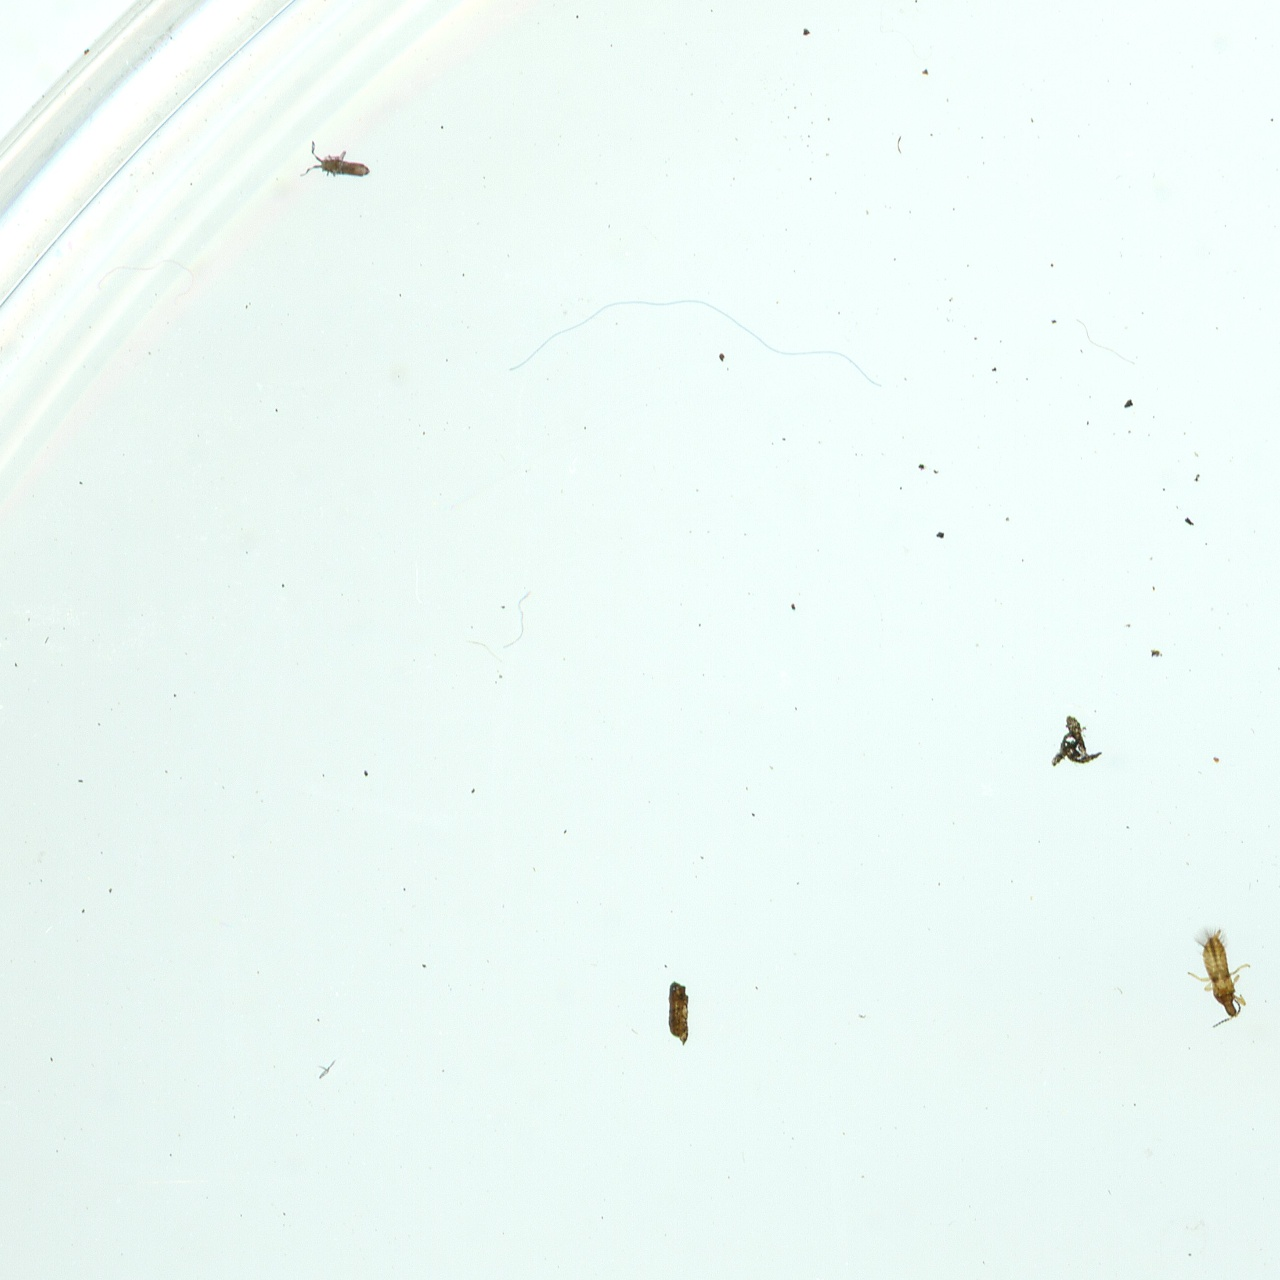arthropod: (1185, 925, 1254, 1030), (295, 135, 374, 191)
